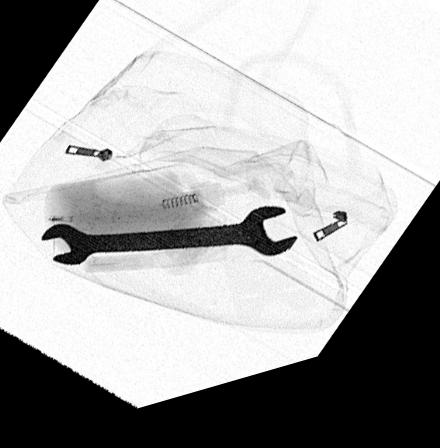Wrench: (38, 222, 296, 272)
